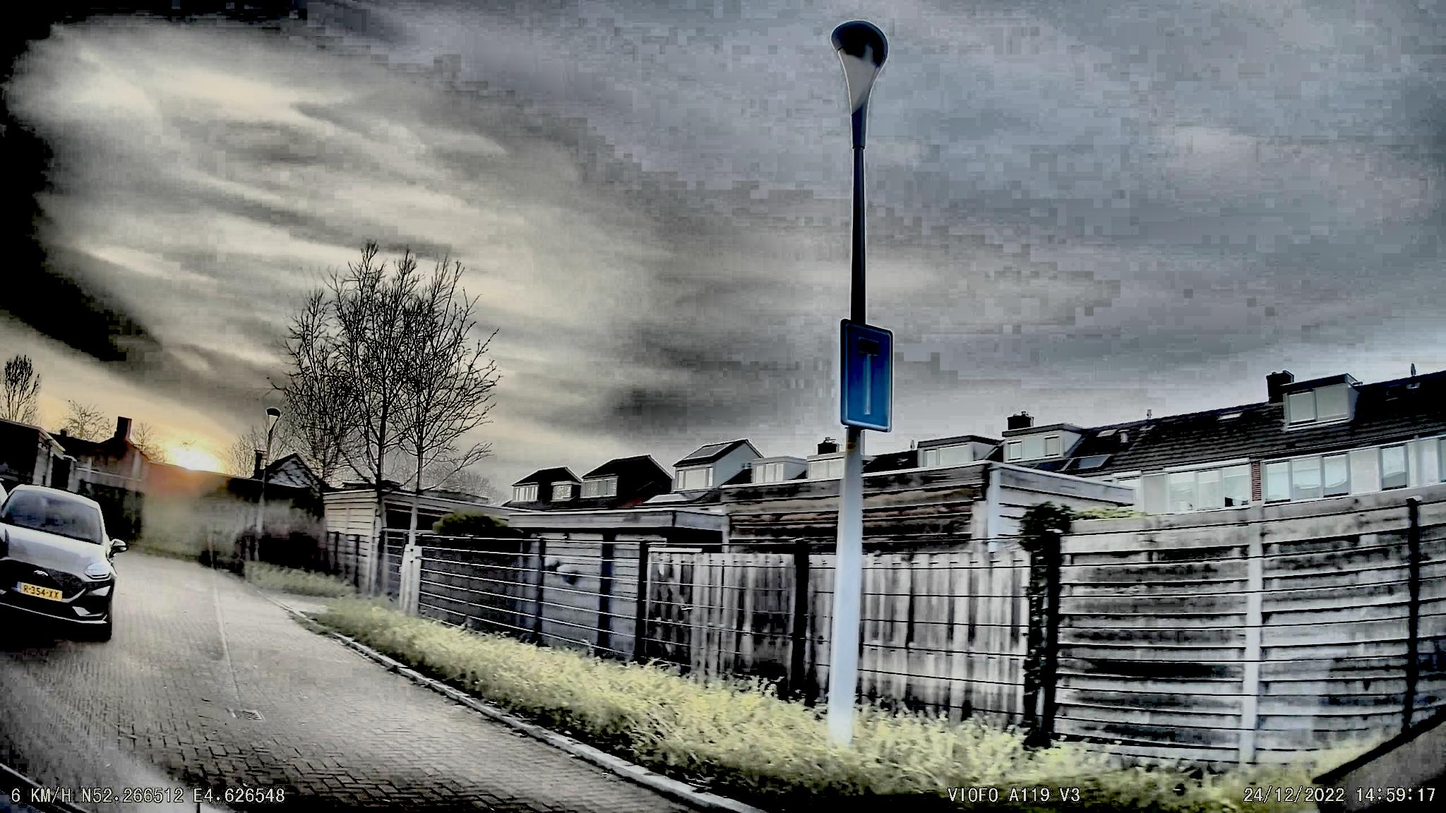Roads: (0, 554, 783, 813)
